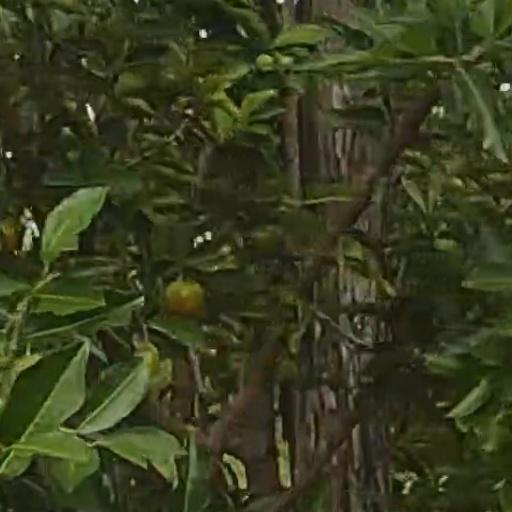acerola_vermelha: (166, 281, 202, 317)
